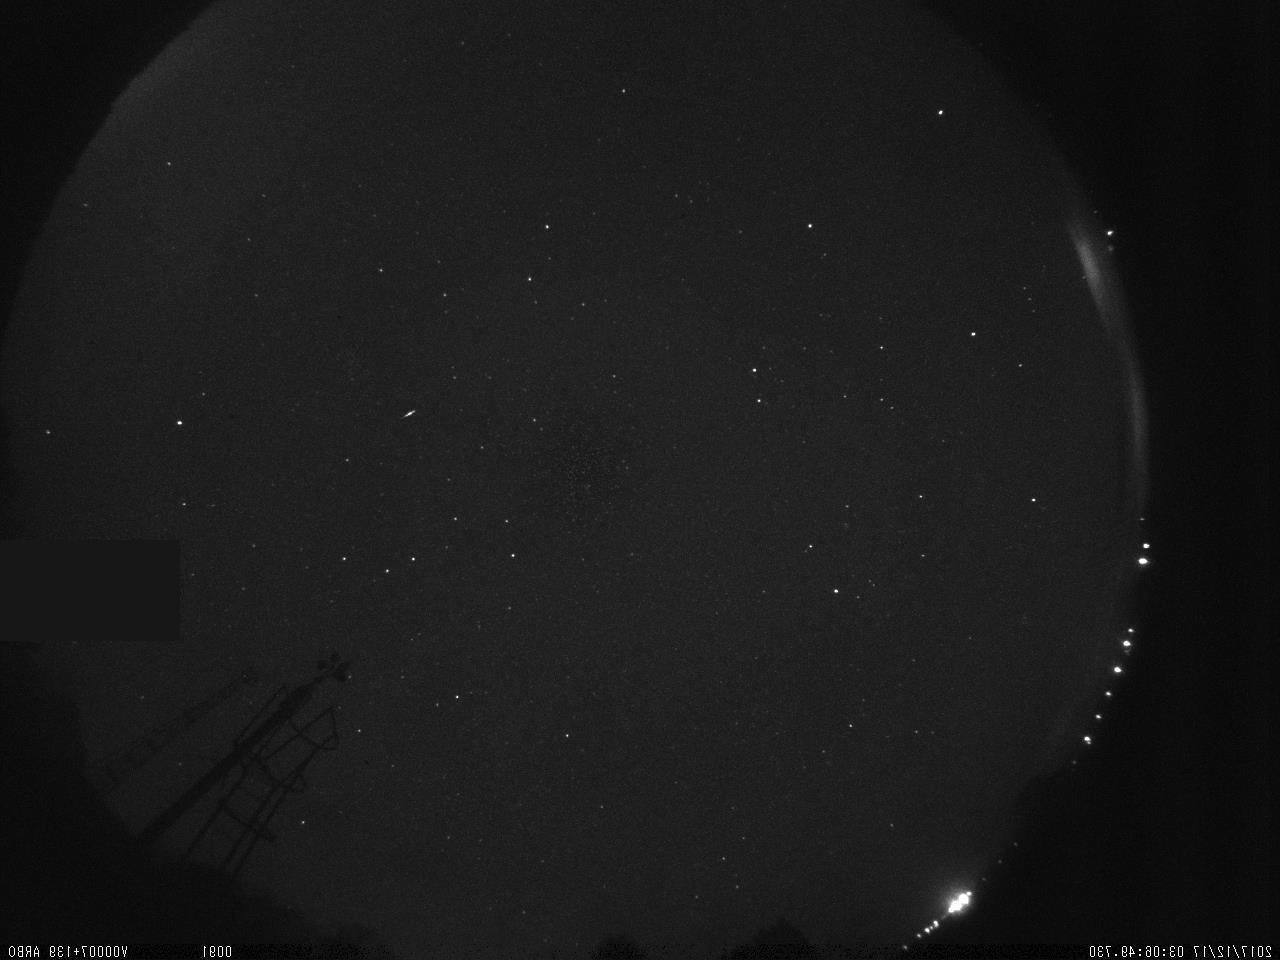meteor: (390, 399, 422, 427)
